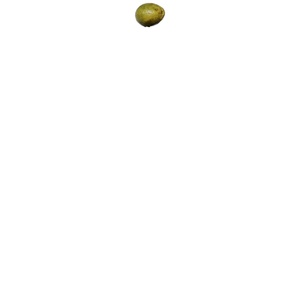goiaba: (130, 2, 168, 30)
